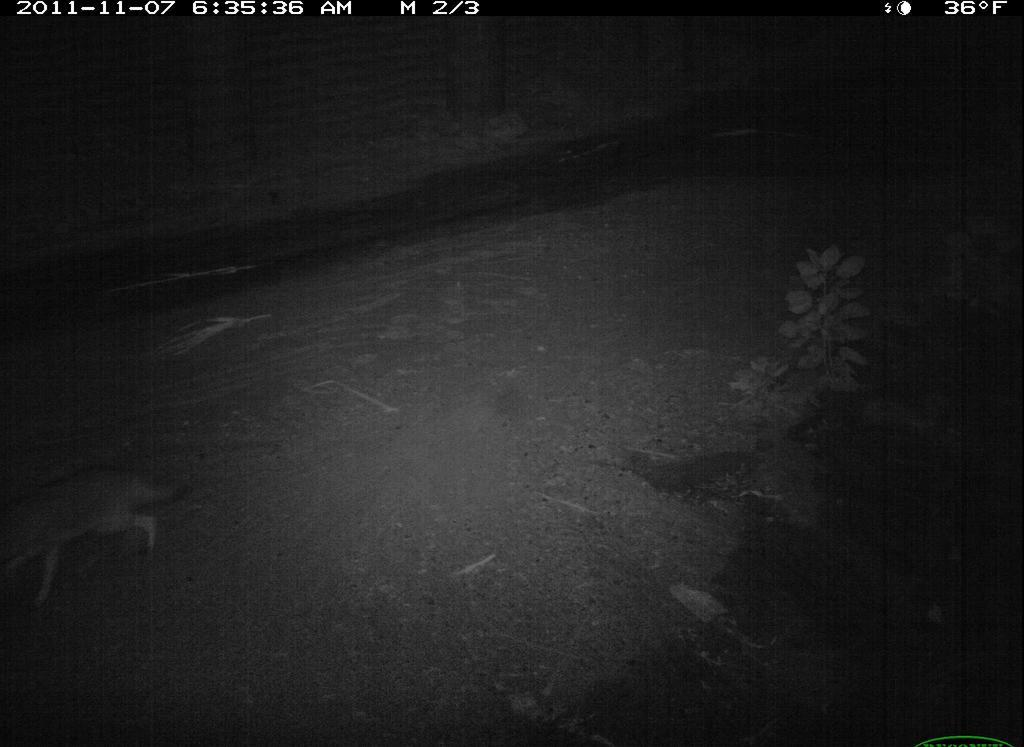coyote: (4, 460, 201, 612)
